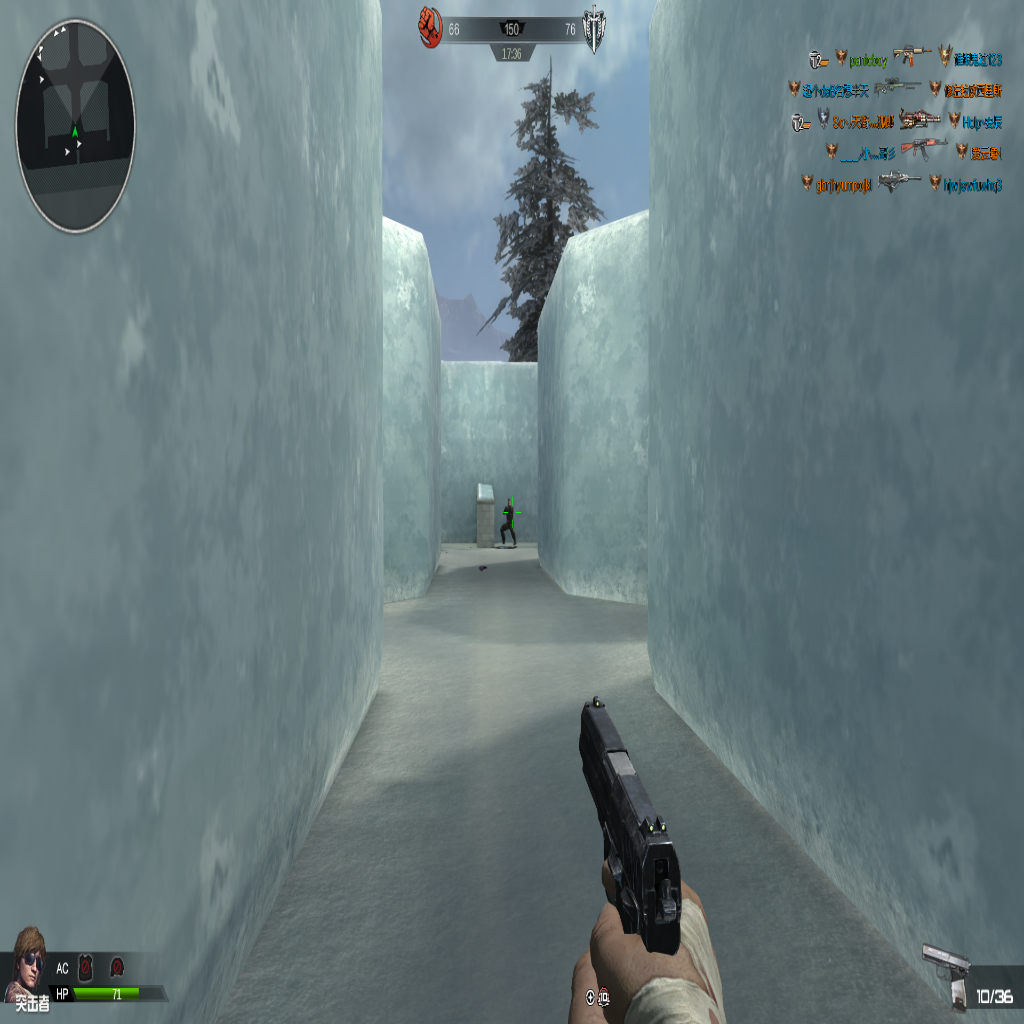ct: (500, 496, 517, 549)
